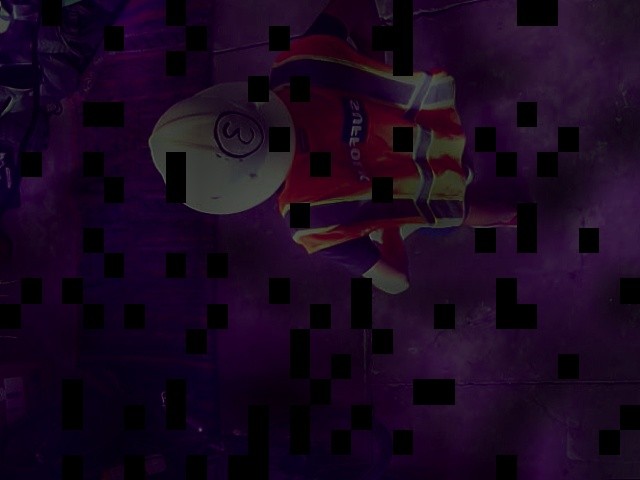three: (216, 110, 263, 156)
